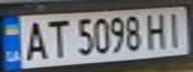0: (90, 15, 112, 55)
5: (72, 15, 96, 56)
8: (124, 12, 145, 52)
9: (109, 14, 127, 53)
A: (18, 18, 51, 62)
H: (142, 10, 172, 49)
I: (160, 9, 190, 48)
T: (42, 17, 69, 60)
